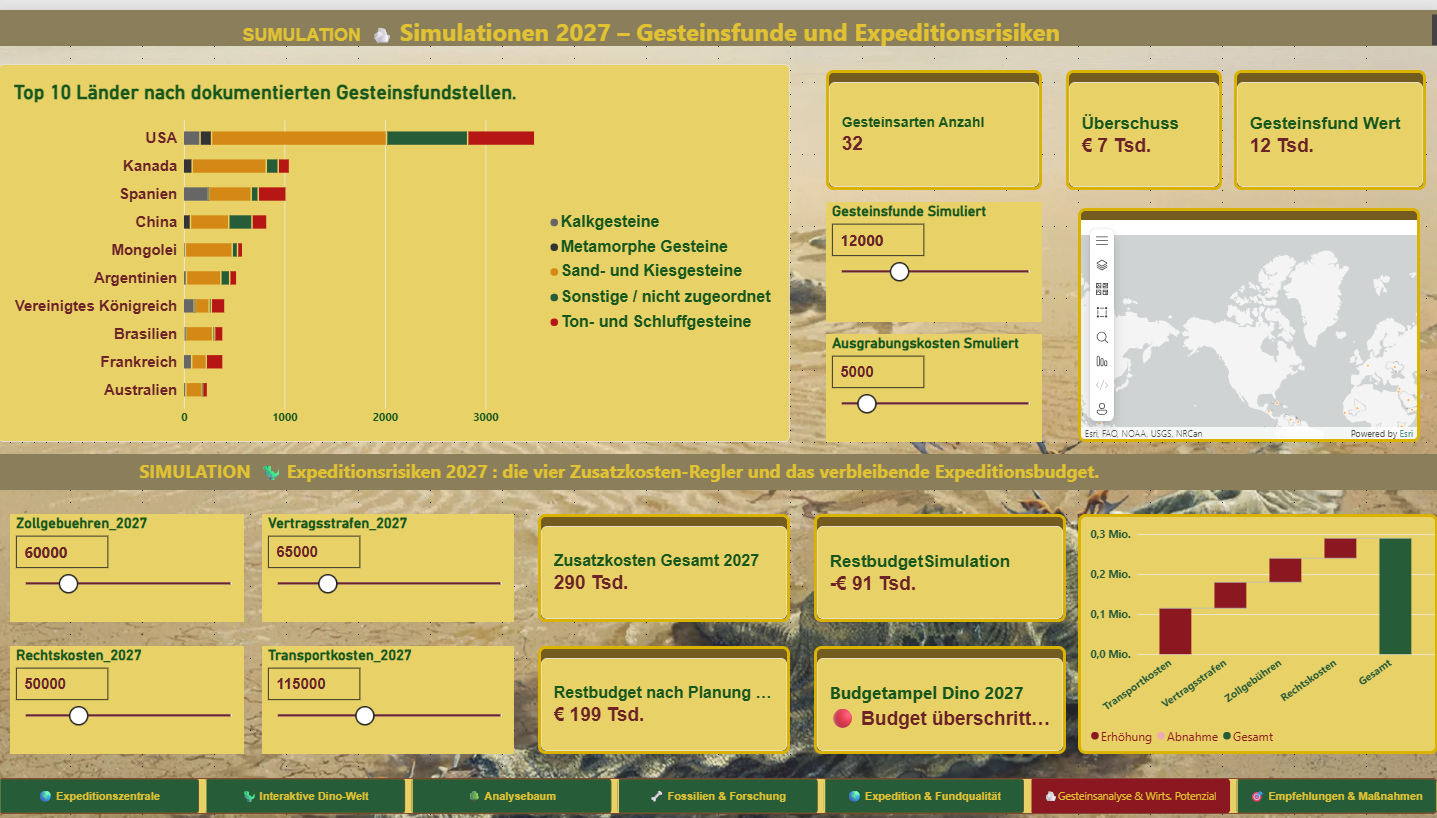

This screenshot's page, from the dashboard's own definition file:
{"tool":"powerbi","page":{"name":"🪨Gesteinsanalyse & Wirts. Potenzial","canvas":[1920,1080],"ordinal":5},"visuals":[{"type":"textbox","box":[0,0,1920,48],"z":0},{"type":"cardVisual","fields":{"Data":["Count(Fundstellen.Gesteinsart_DE)"]},"box":[1104,80,288,160],"z":1000},{"type":"barChart","title":"Top 10 Länder nach dokumentierten Gesteinsfundstellen.","fields":{"Category":["Expeditionsbudget.Land"],"Series":["Fundstellen.Gesteinsgruppe"],"Y":["_Measures.Gesteinsanalyse | Dokumentierte Fundstellen"]},"box":[0,72,1056,504],"z":2000},{"type":"slicer","fields":{"Values":["Zollgebuehren_2027.Zollgebuehren_2027"]},"box":[16,672,312,144],"z":3000},{"type":"slicer","fields":{"Values":["Rechtskosten_2027.Rechtskosten_2027"]},"box":[16,848,312,144],"z":4000},{"type":"slicer","fields":{"Values":["Vertragsstrafen_2027.Vertragsstrafen_2027"]},"box":[352,672,336,144],"z":5000},{"type":"slicer","fields":{"Values":["Transportkosten_2027.Transportkosten_2027"]},"box":[352,848,336,144],"z":6000},{"type":"cardVisual","fields":{"Data":["_Measures.Zusatzkosten Gesamt 2027"]},"box":[720,672,336,144],"z":7000},{"type":"slicer","fields":{"Values":["Gesteinsfund_Erloes_2027.Gesteinsfund_Erloes_2027"]},"box":[1104,256,288,160],"z":8000},{"type":"slicer","fields":{"Values":["Gestein_Ausgrabungskosten_2027.Gestein_Ausgrabungskosten_2027"]},"box":[1104,432,288,144],"z":9000},{"type":"cardVisual","fields":{"Data":["_Measures.Gestein Überschuss je Fund 2027"]},"box":[1424,80,208,160],"z":10000},{"type":"cardVisual","fields":{"Data":["Gesteinsfund_Erloes_2027.Gesteinsfund_Erloes_2027 Wert"]},"box":[1648,80,256,160],"z":11000},{"type":"cardVisual","fields":{"Data":["_Measures.Restbudget Dino Simulation 2027"]},"box":[1088,672,336,144],"z":12000},{"type":"cardVisual","fields":{"Data":["_Measures.Restbudget nach Planung 2027 €"]},"box":[720,848,336,144],"z":13000},{"type":"textbox","box":[0,592,1920,48],"z":14000},{"type":"cardVisual","fields":{"Data":["_Measures.Budgetampel Dino 2027"]},"box":[1088,848,336,144],"z":15000},{"type":"pageNavigator","box":[0,1024,1920,48],"z":16000},{"type":"waterfallChart","fields":{"Category":["Kostenarten_2027.Kostenart"],"Y":["_Measures.Zusatzkosten nach Kostenart 2027"]},"box":[1440,672,480,320],"z":17000},{"type":"esriVisual","fields":{"Location":["Expeditionsbudget.Land_Karte"],"Size":["_Measures.Gesteinsanalyse | Dokumentierte Fundstellen"]},"box":[1440,264,456,312],"z":18000}]}

Visuals, with their boxes in screenshot pixels (x1, y1, x2, y2), scaled from the page's 1920x1080 canvas onto the 1437x818 screenshot:
textbox: {"x1": 0, "y1": 0, "x2": 1436, "y2": 36}
cardVisual - Count(Fundstellen.Gesteinsart_DE): {"x1": 826, "y1": 61, "x2": 1042, "y2": 182}
"Top 10 Länder nach dokumentierten Gesteinsfundstellen." barChart: {"x1": 0, "y1": 55, "x2": 790, "y2": 436}
slicer - Zollgebuehren_2027.Zollgebuehren_2027: {"x1": 12, "y1": 509, "x2": 245, "y2": 618}
slicer - Rechtskosten_2027.Rechtskosten_2027: {"x1": 12, "y1": 642, "x2": 245, "y2": 751}
slicer - Vertragsstrafen_2027.Vertragsstrafen_2027: {"x1": 263, "y1": 509, "x2": 515, "y2": 618}
slicer - Transportkosten_2027.Transportkosten_2027: {"x1": 263, "y1": 642, "x2": 515, "y2": 751}
cardVisual - _Measures.Zusatzkosten Gesamt 2027: {"x1": 539, "y1": 509, "x2": 790, "y2": 618}
slicer - Gesteinsfund_Erloes_2027.Gesteinsfund_Erloes_2027: {"x1": 826, "y1": 194, "x2": 1042, "y2": 315}
slicer - Gestein_Ausgrabungskosten_2027.Gestein_Ausgrabungskosten_2027: {"x1": 826, "y1": 327, "x2": 1042, "y2": 436}
cardVisual - _Measures.Gestein Überschuss je Fund 2027: {"x1": 1066, "y1": 61, "x2": 1221, "y2": 182}
cardVisual - Gesteinsfund_Erloes_2027.Gesteinsfund_Erloes_2027 Wert: {"x1": 1233, "y1": 61, "x2": 1425, "y2": 182}
cardVisual - _Measures.Restbudget Dino Simulation 2027: {"x1": 814, "y1": 509, "x2": 1066, "y2": 618}
cardVisual - _Measures.Restbudget nach Planung 2027 €: {"x1": 539, "y1": 642, "x2": 790, "y2": 751}
textbox: {"x1": 0, "y1": 448, "x2": 1436, "y2": 485}
cardVisual - _Measures.Budgetampel Dino 2027: {"x1": 814, "y1": 642, "x2": 1066, "y2": 751}
pageNavigator: {"x1": 0, "y1": 776, "x2": 1436, "y2": 812}
waterfallChart - Kostenarten_2027.Kostenart x _Measures.Zusatzkosten nach Kostenart 2027: {"x1": 1078, "y1": 509, "x2": 1436, "y2": 751}
esriVisual - Expeditionsbudget.Land_Karte x _Measures.Gesteinsanalyse | Dokumentierte Fundstellen: {"x1": 1078, "y1": 200, "x2": 1419, "y2": 436}
